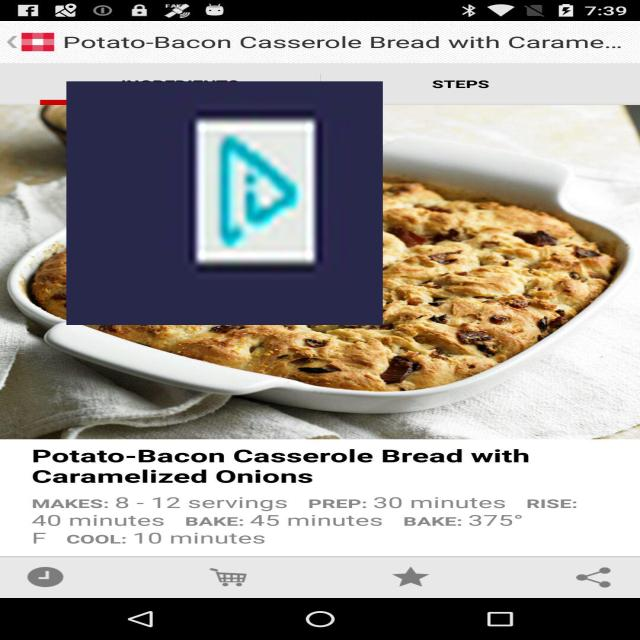sneaking: (66, 81, 383, 325)
